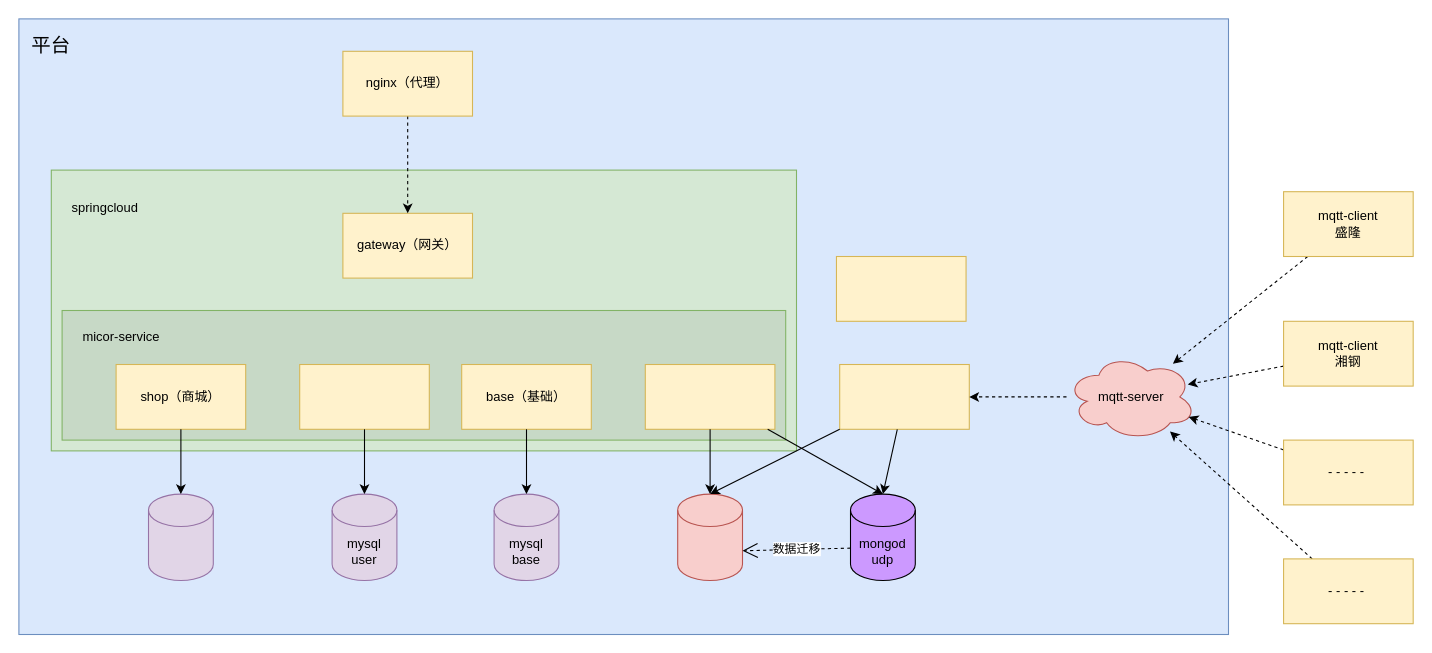
The diagram is 1432 pixels wide and 653 high, and some of its shapes have lost their labels. Here are the shapes that lost their labels. From the top down, the centre of each, then its label:
(x=900, y=288): python（算法）
(x=364, y=396): user（用户）
(x=709, y=396): backend（设备、图谱）
(x=904, y=396): mqtt（数据采集）
(x=180, y=536): mysql shop
(x=709, y=536): pgsql backend
